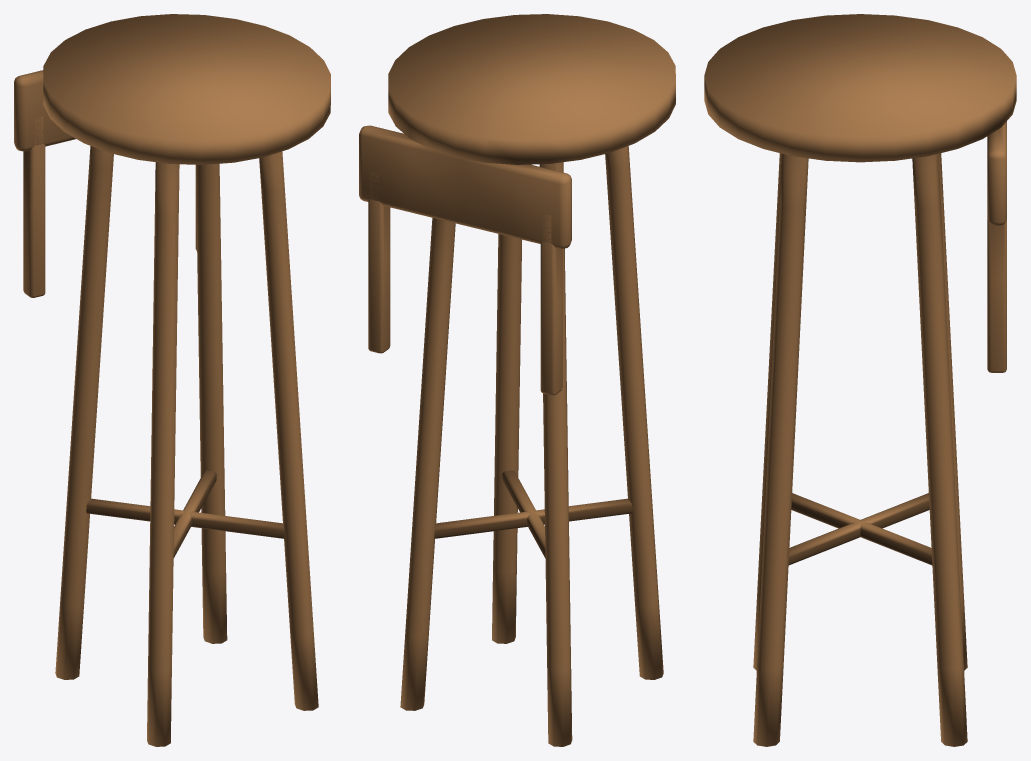
Rendered from chaise_bar.glb.
3 renders of one model, left to right at view 1: azimuth 30°, elevation 25°; view 2: azimuth 150°, elevation 25°; view 3: azimuth 270°, elevation 25°, orthographic. The views are drawn at different scales.
Visible parts, largest first — view 1: corps; view 2: corps; view 3: corps.
Part boxes in pixels (<box>): corps: <box>14,14,330,746</box>; corps: <box>359,14,675,746</box>; corps: <box>704,14,1016,746</box>.
Size of the model in its own units: 0.42 by 1 by 0.45.
